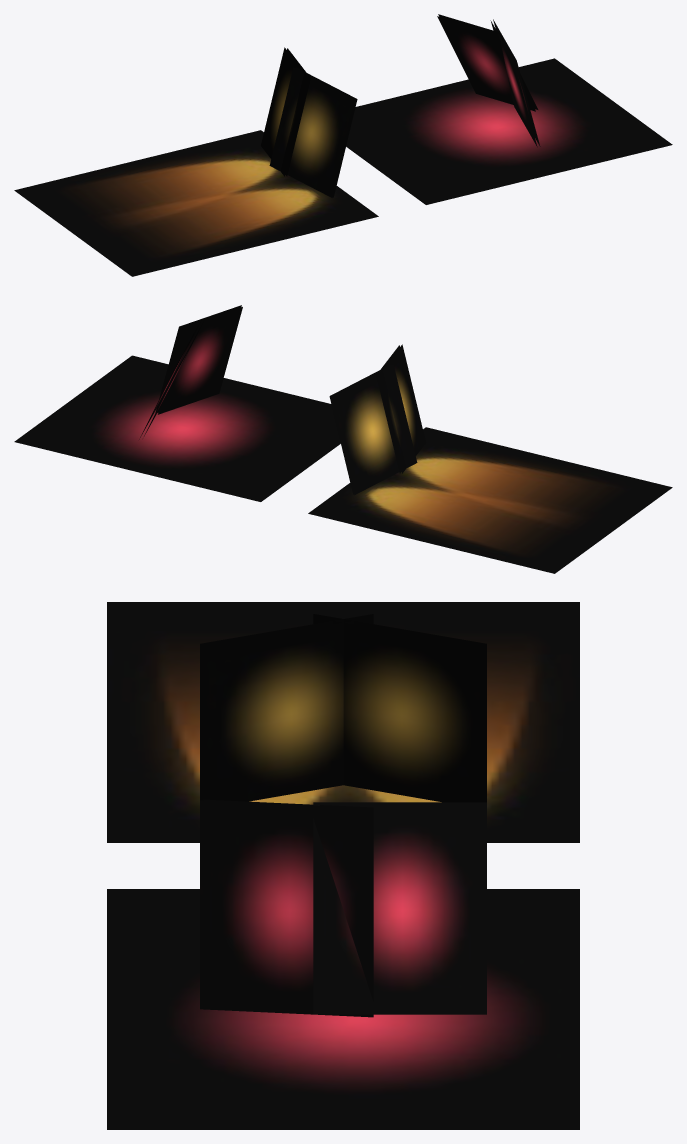
The picture shows the model from 3 angles, top to bottom: view 1: azimuth 30°, elevation 25°; view 2: azimuth 150°, elevation 25°; view 3: azimuth 270°, elevation 25°; orthographic projection. The views are drawn at different scales.
Visible parts, largest first — view 1: FXheadlight; view 2: FXheadlight; view 3: FXheadlight.
Boxes of the visible parts, x1,y1,x2,y2 form: FXheadlight: (14, 14, 672, 276); FXheadlight: (14, 305, 672, 573); FXheadlight: (107, 602, 579, 1129).
Bounding box in the file's own units: 1.49 × 0.5637 × 0.2771.
1 material, 1 textured.
